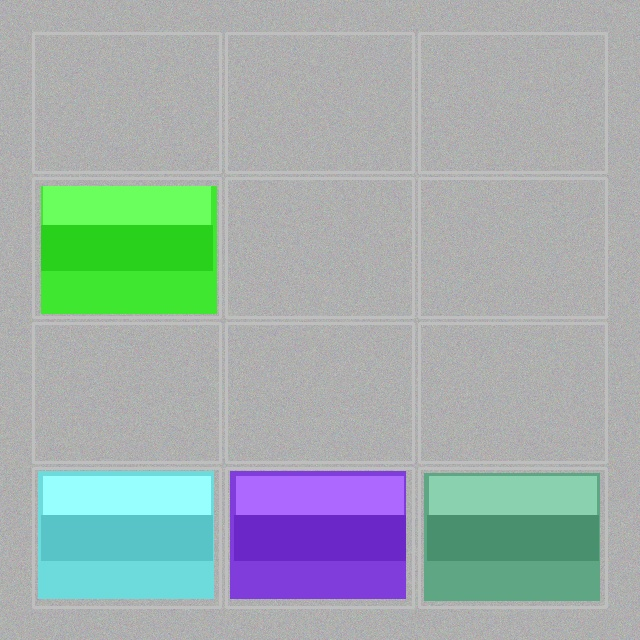space-empty: (35, 35, 218, 170), (228, 35, 411, 170), (421, 35, 604, 170), (228, 180, 411, 315), (421, 180, 604, 315), (35, 325, 218, 460), (228, 325, 411, 460), (421, 325, 604, 460)
space-occupied: (35, 180, 218, 315), (35, 470, 218, 605), (228, 470, 411, 605), (421, 470, 604, 605)
